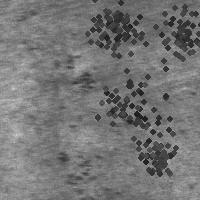rolled-in_scale: (70, 47, 186, 163), (23, 40, 94, 125), (77, 0, 151, 64), (139, 0, 200, 74), (56, 143, 127, 200), (127, 124, 185, 182)
